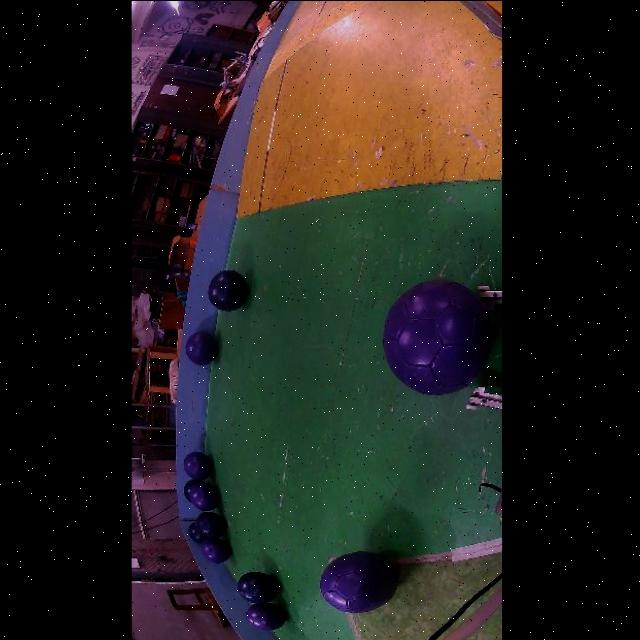P: (384, 279, 494, 394), (321, 550, 400, 612), (208, 269, 249, 310), (186, 331, 218, 365), (246, 602, 286, 629), (190, 481, 219, 510), (183, 451, 213, 479), (201, 538, 231, 562)
